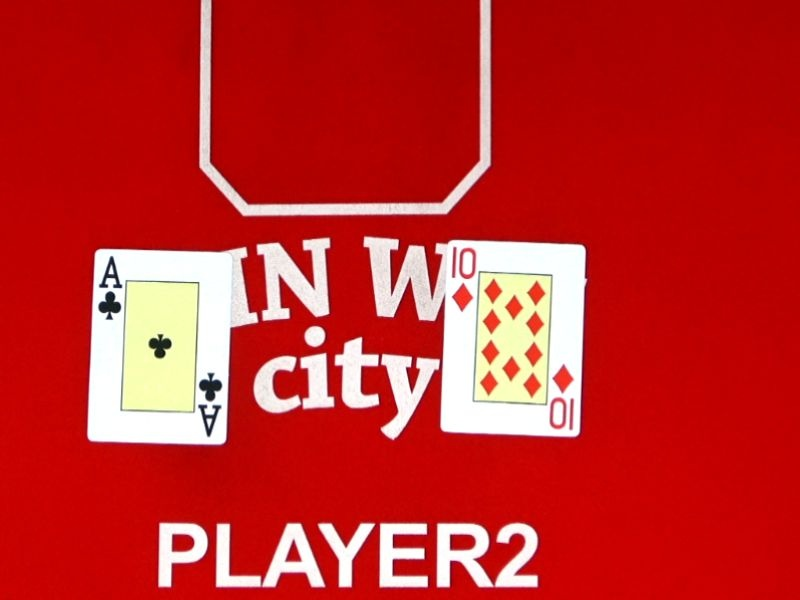10D: (523, 362, 605, 437), (424, 245, 500, 315)
AC: (73, 254, 149, 325), (172, 369, 247, 439)
